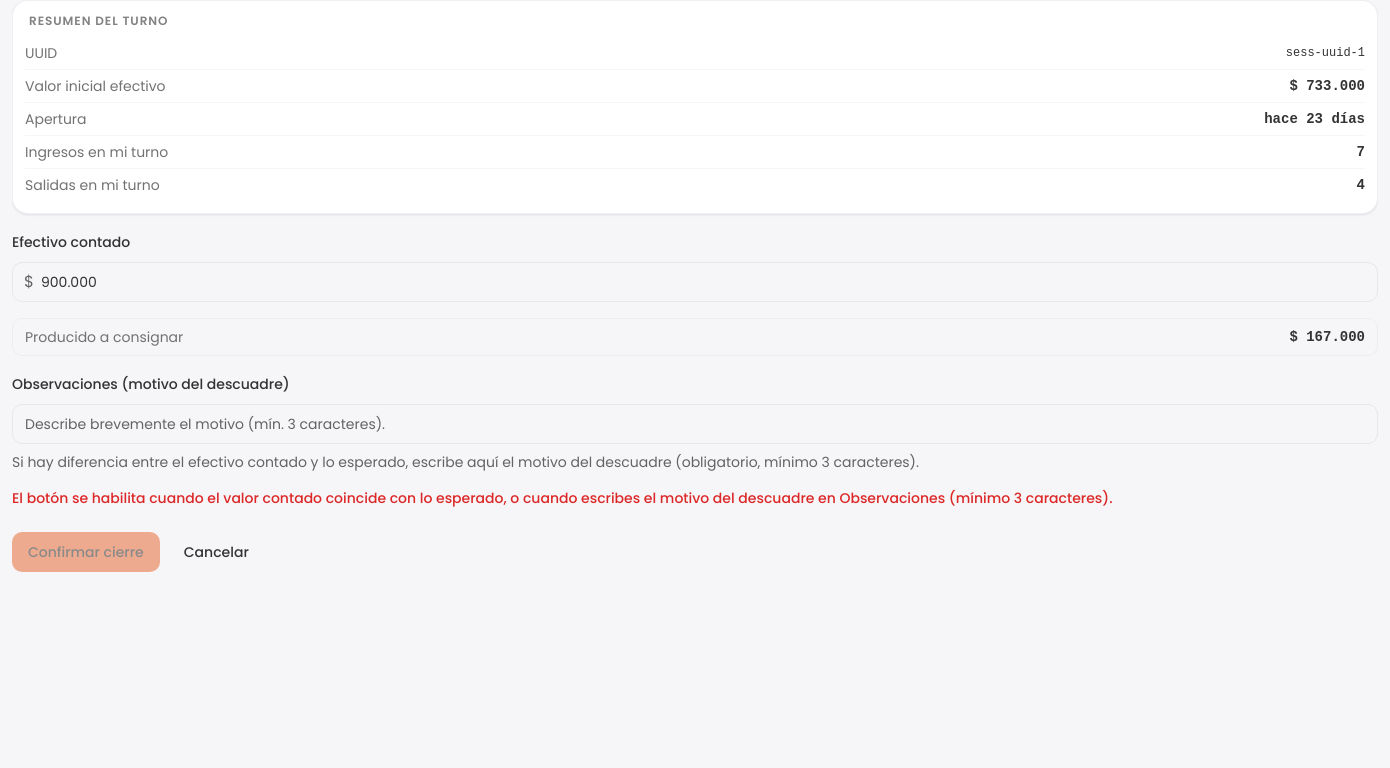
it: <CerrarTurnoForm /> — motivo del descuadre en Observaciones (conteo ciego) › con diferencia → Observaciones pasa a ser obligatoria (min 3) y no expone ningún monto esperado/diferencia
Expected: the text with test id "cerrar-turno-observaciones-ayuda" shows "motivo del descuadre", x1=12 y1=452 x2=919 y2=472
Expected: the button with test id "cerrar-turno-confirmar" is disabled, x1=12 y1=532 x2=160 y2=572
Type "ab" into the field with test id "cerrar-turno-observaciones" at (695, 424), box x1=12 y1=404 x2=1378 y2=444
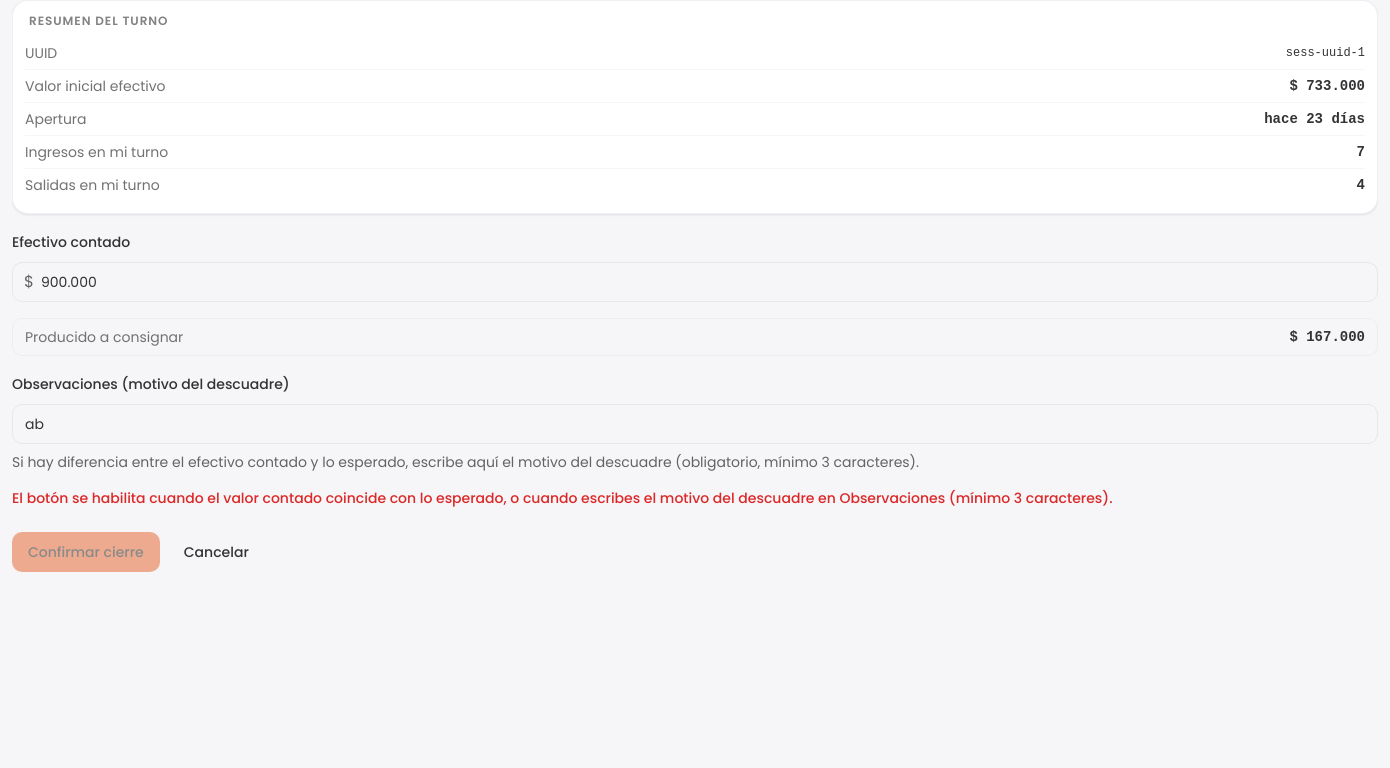
Expected: the button with test id "cerrar-turno-confirmar" is disabled, x1=12 y1=532 x2=160 y2=572
Replace the text in the field with test id "cerrar-turno-observaciones" with "Faltante en caja" at (695, 424), box x1=12 y1=404 x2=1378 y2=444
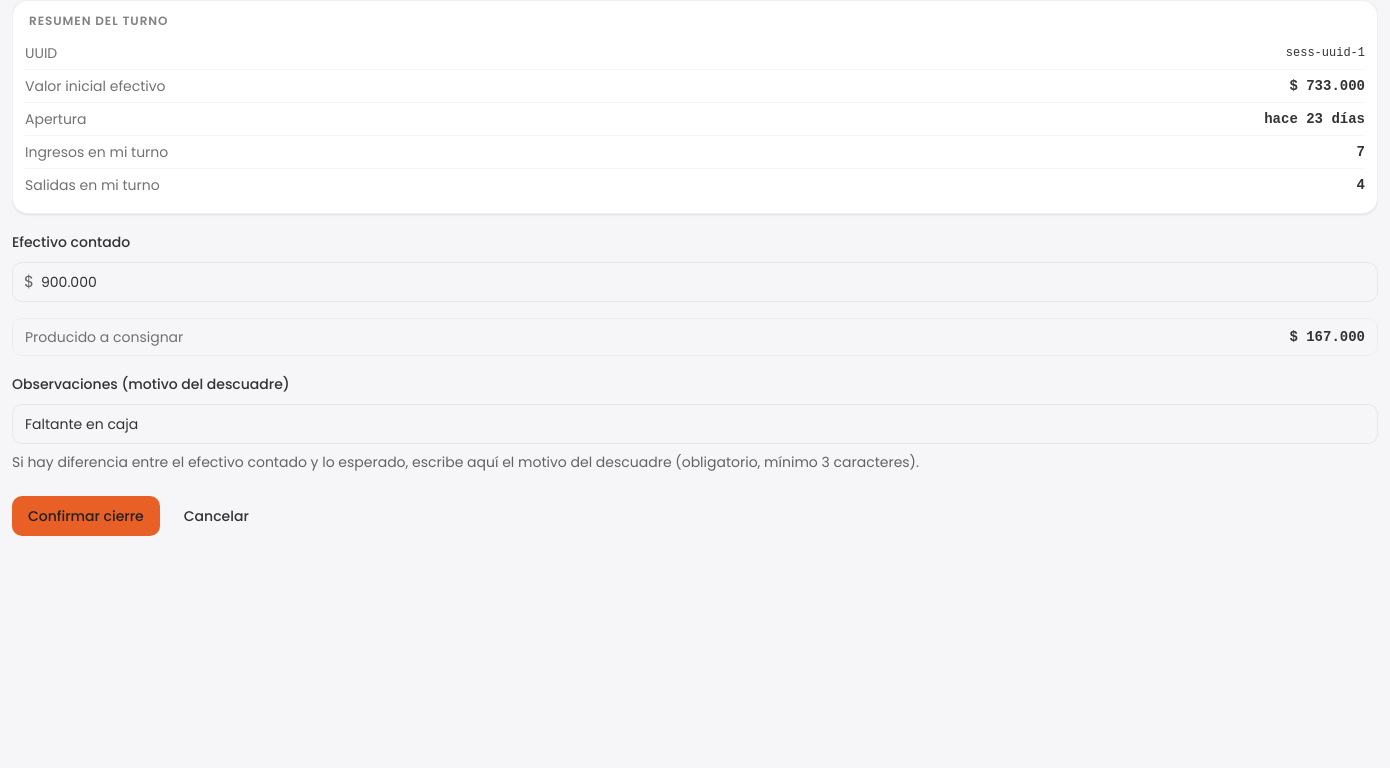
Now the button with test id "cerrar-turno-confirmar" is enabled, box x1=12 y1=496 x2=160 y2=536
